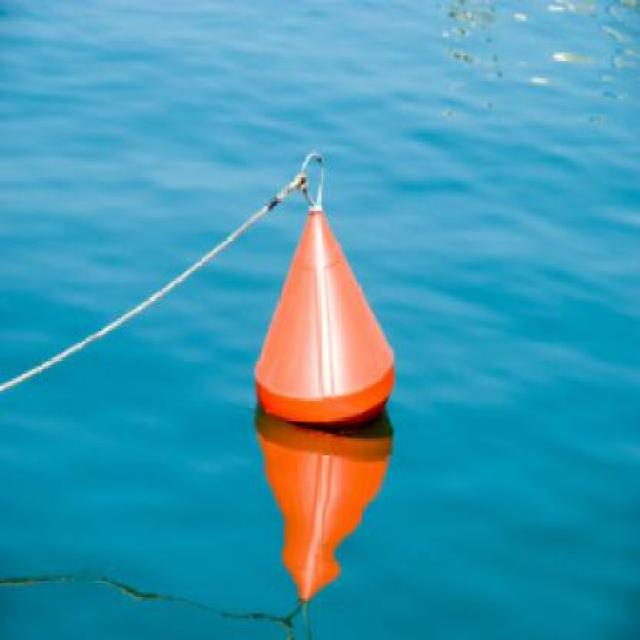a: (241, 145, 403, 428), (246, 399, 401, 603)
